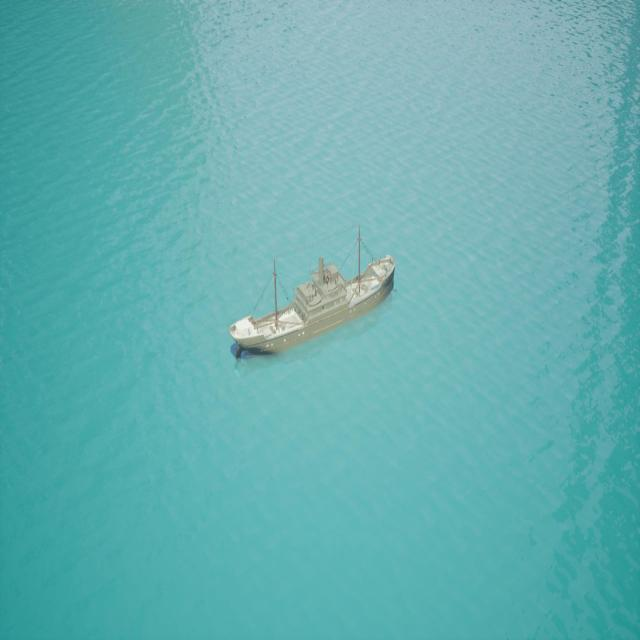fishing ship: (229, 247, 397, 361)
